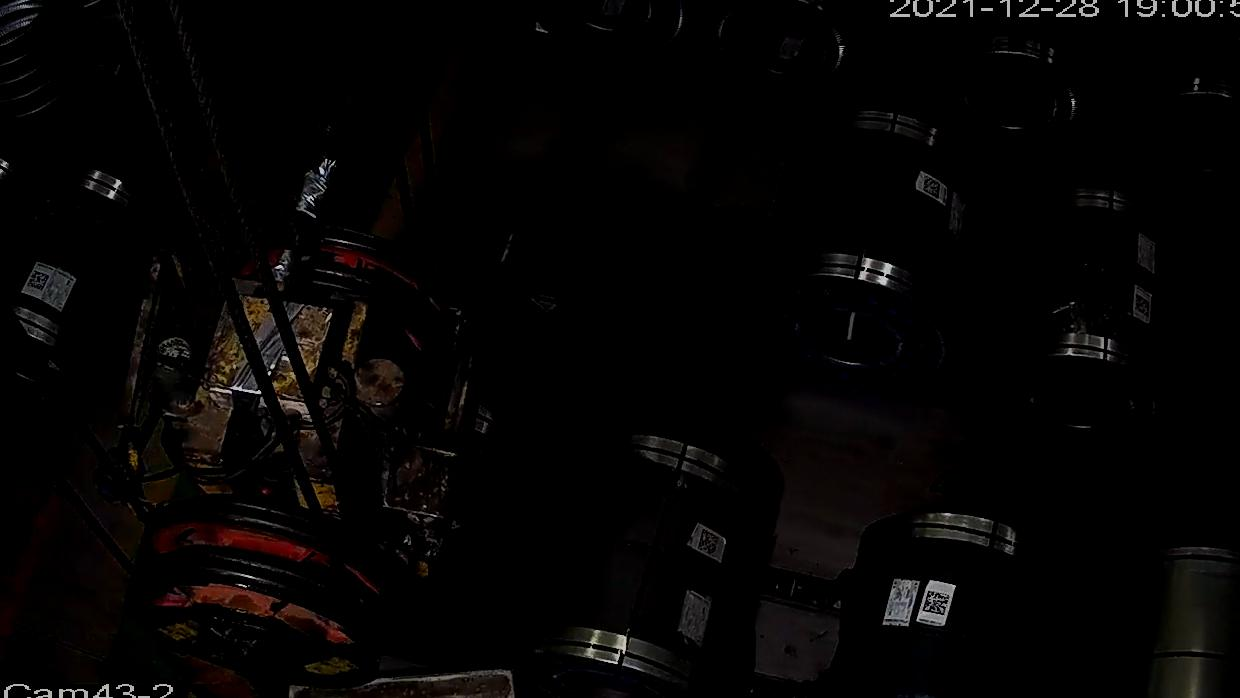data matrix: (921, 588, 953, 618), (696, 528, 721, 558), (25, 269, 52, 292), (923, 174, 943, 202), (1134, 294, 1154, 320)
